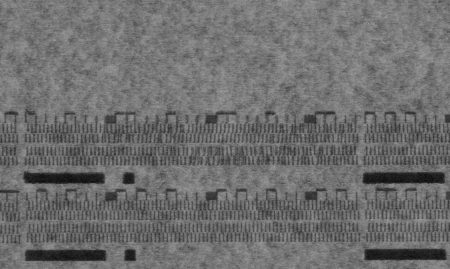Oblique printing: (69, 119, 363, 166)
